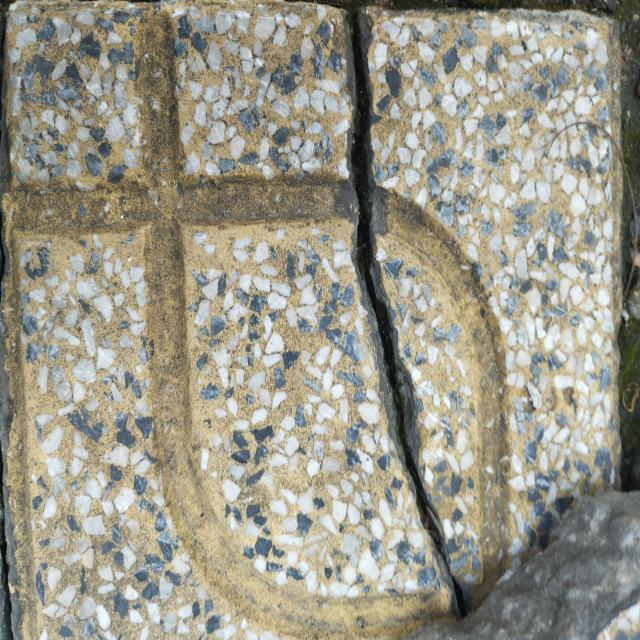vertical cracks: (348, 5, 462, 616)
